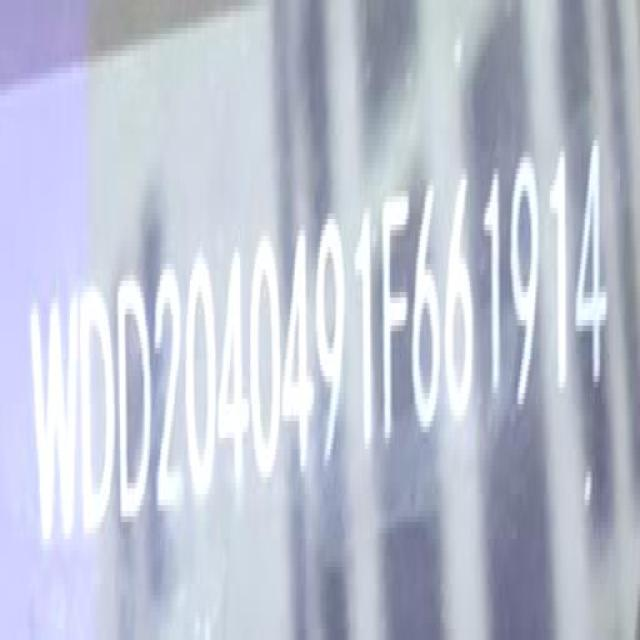0: (188, 250, 221, 514), (251, 237, 283, 495)
1: (478, 155, 503, 428), (547, 154, 573, 406), (354, 199, 375, 462)
2: (155, 264, 187, 522)
4: (572, 147, 616, 395), (282, 218, 318, 490), (218, 242, 250, 506)
6: (442, 165, 479, 438), (411, 174, 445, 450)
9: (507, 148, 545, 416), (316, 215, 348, 485)
D: (79, 282, 119, 544), (118, 272, 154, 535)
F: (381, 178, 415, 458)
W: (28, 294, 76, 555)
